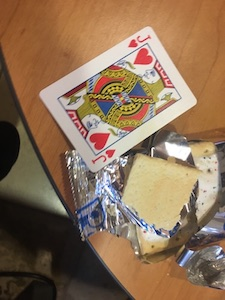JackOfHearts: (36, 24, 199, 175)
